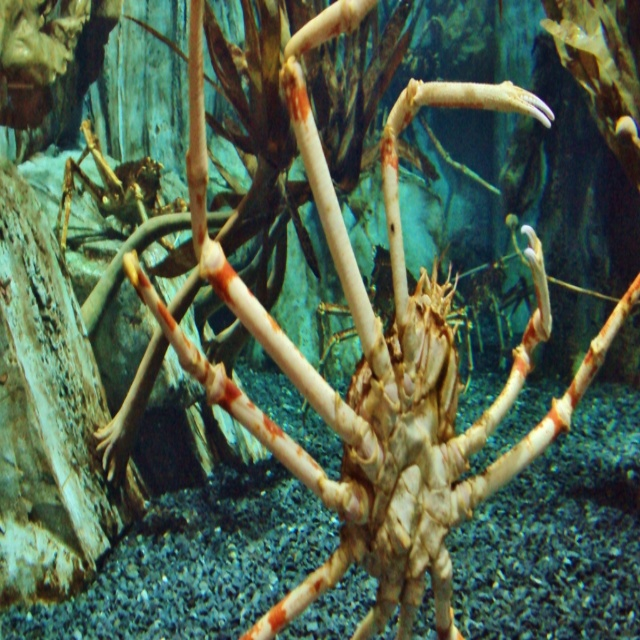Crab: (94, 0, 640, 639)
